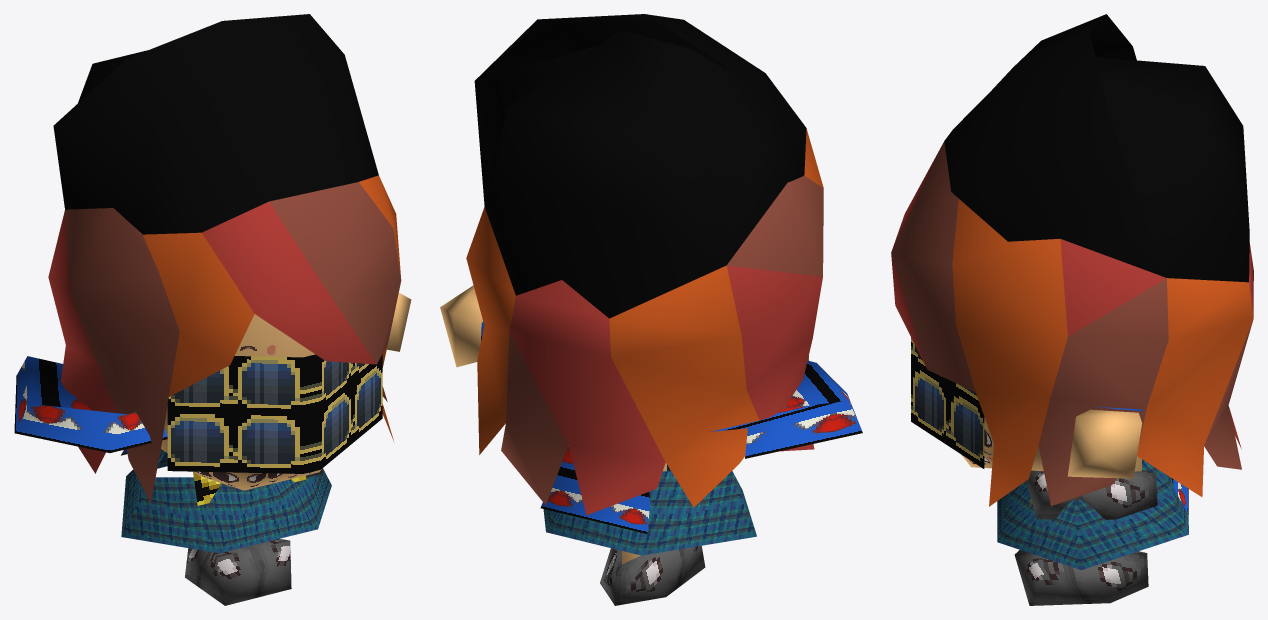
The picture shows the model from 3 angles, left to right: view 1: azimuth 30°, elevation 25°; view 2: azimuth 150°, elevation 25°; view 3: azimuth 270°, elevation 25°; orthographic projection. The views are drawn at different scales.
Visible parts, largest first — view 1: pmd04_10_03; view 2: pmd04_10_03; view 3: pmd04_10_03.
Part boxes in pixels (left/top/right/bottom): pmd04_10_03: left=14, top=14, right=411, bottom=605; pmd04_10_03: left=440, top=14, right=862, bottom=605; pmd04_10_03: left=891, top=14, right=1253, bottom=605.
Size of the model in its own units: 1.23 by 1.61 by 0.9575.
Materials: 9 (9 with a texture image).
